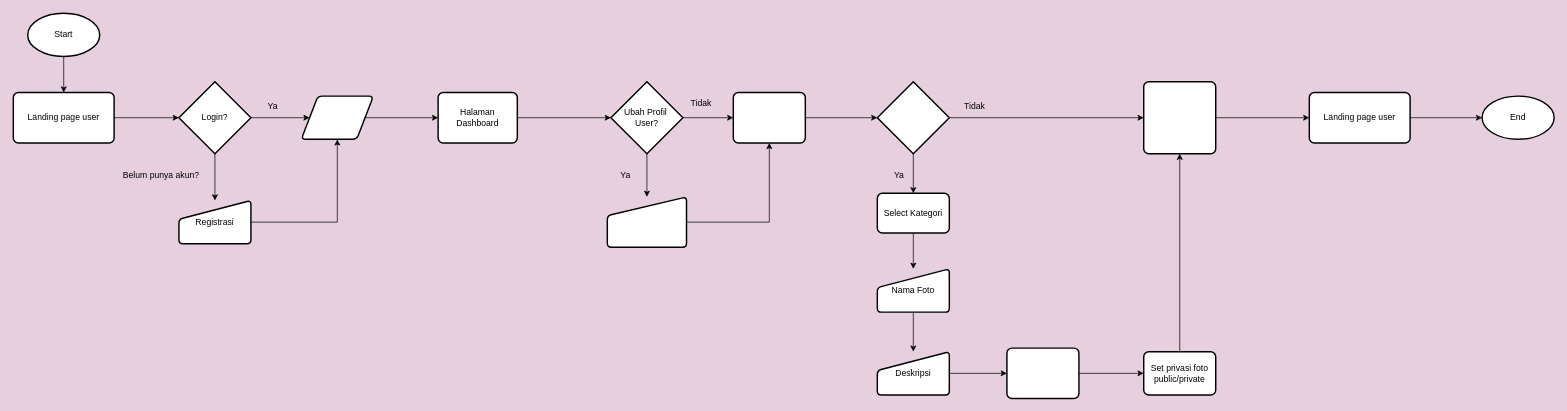
This 1567x411 diagram has some shape labels left out. Here are the shapes that lost their labels. From the top down, the box of each, then its label:
(300, 95, 374, 140): Validasi Login
(732, 91, 806, 143): Data Foto
(876, 81, 950, 154): Upload Foto?
(1143, 81, 1216, 154): Data Semua Foto
(606, 196, 687, 248): Ubah Informasi user
(1006, 347, 1079, 399): Upload Foto
